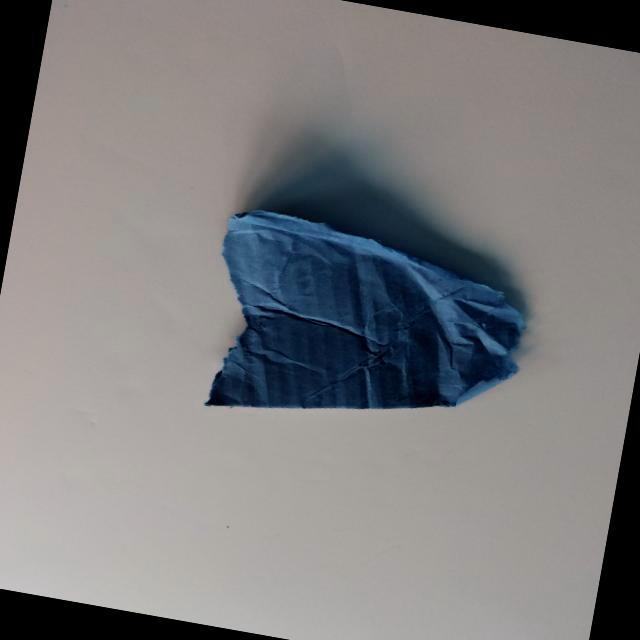cardboard: (157, 185, 554, 469)
